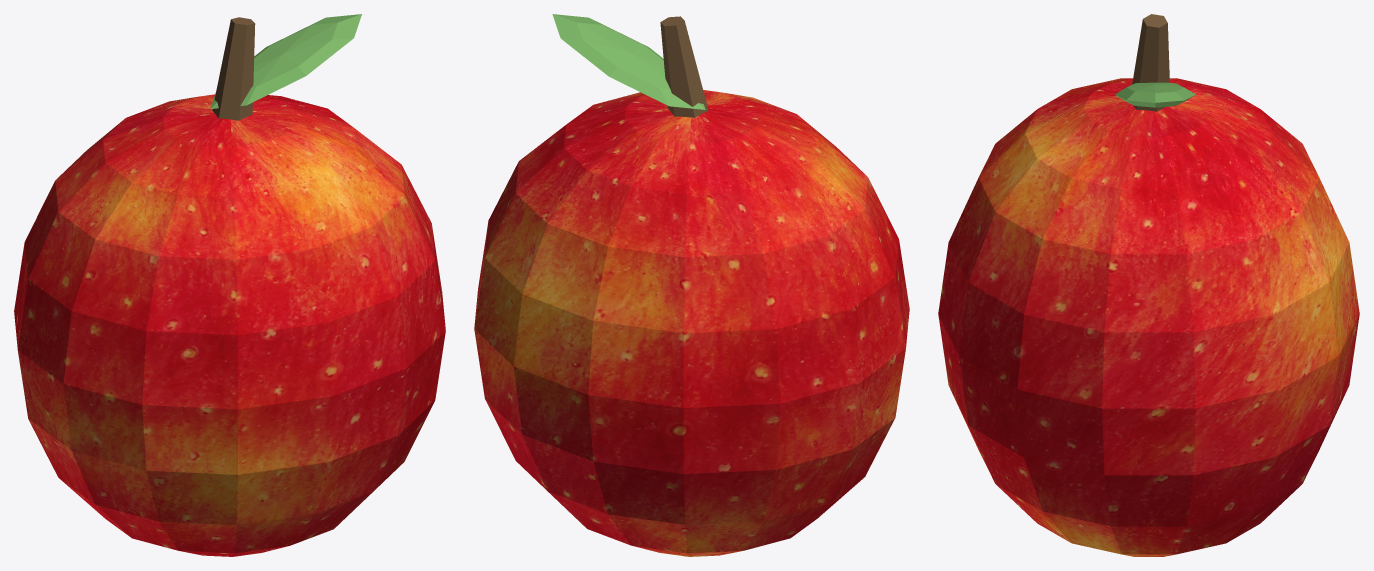
Rendered from apple-DStSd7EM.glb.
3 views of the same model, side by side, from view 1: azimuth 30°, elevation 25°; view 2: azimuth 150°, elevation 25°; view 3: azimuth 270°, elevation 25° (orthographic). The views are drawn at different scales.
Visible parts, largest first — view 1: AppleFruit, AppleLeaf, AppleStem; view 2: AppleFruit, AppleLeaf, AppleStem; view 3: AppleFruit, AppleStem, AppleLeaf.
Part boxes in pixels (box(x1,y1,x2,y2)): AppleFruit: box(14, 94, 445, 556); AppleLeaf: box(210, 14, 361, 108); AppleStem: box(212, 17, 255, 120); AppleFruit: box(474, 90, 909, 556); AppleLeaf: box(552, 14, 705, 109); AppleStem: box(660, 16, 708, 117); AppleFruit: box(938, 78, 1359, 556); AppleStem: box(1132, 14, 1169, 111); AppleLeaf: box(1115, 82, 1195, 107).
Size of the model in its own units: 0.351 by 0.455 by 0.33.
Materials: 3 (1 with a texture image).
